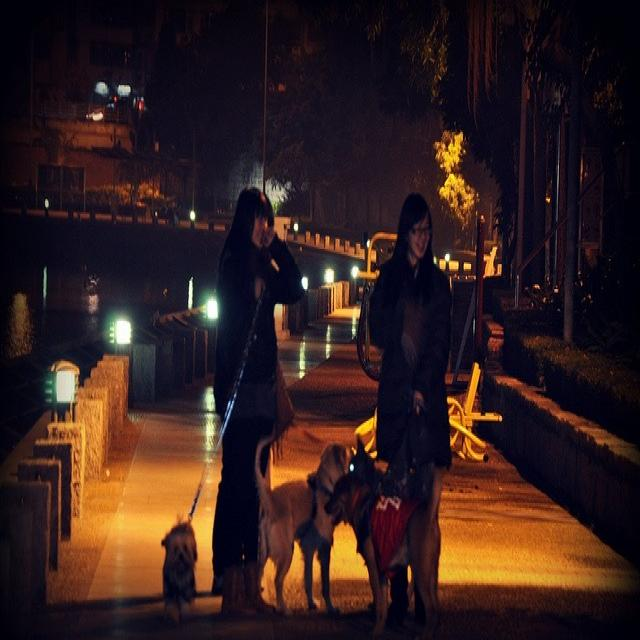People: (351, 164, 482, 493), (216, 109, 282, 546)
dog: (339, 419, 447, 640), (272, 417, 360, 624), (154, 486, 203, 640)
